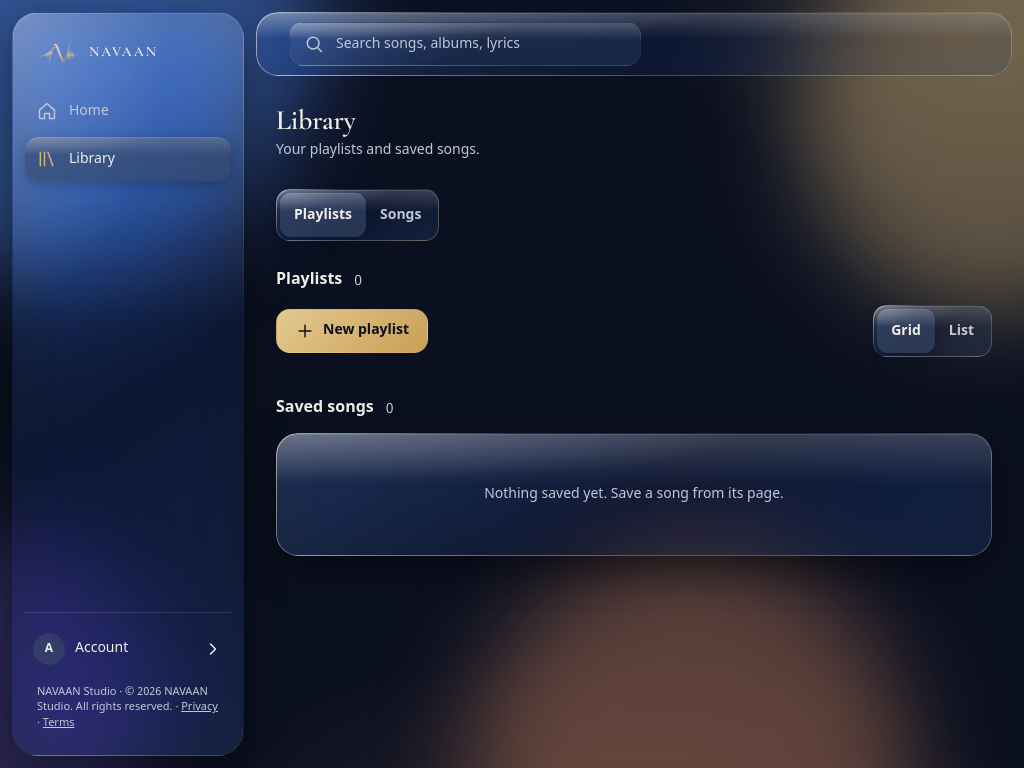
Test case: Library filters › shows the answer for the latest choice even when an earlier one answers later
The image size is (1024, 768).
Click the tab "Songs" at (401, 215), box [366,193,435,237]
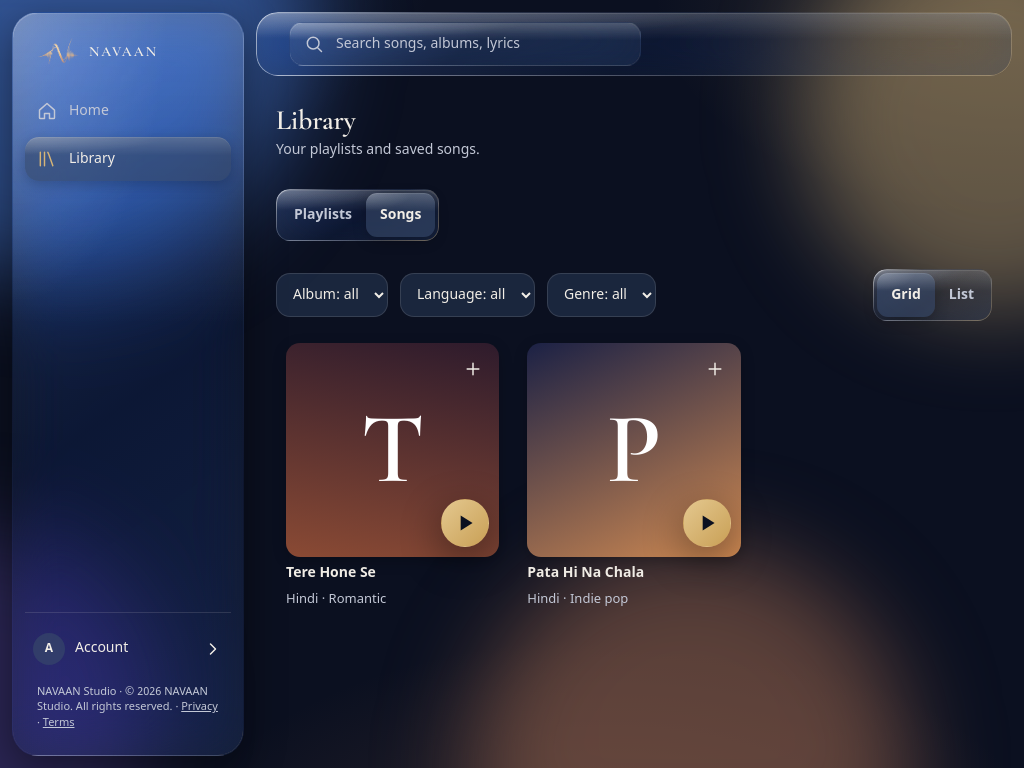
Expected: the link "T Tere Hone Se Hindi · Romantic" is shown, [276,333,509,619]
Select "Hindi" in the 2nd dropdown named "Language" at (468, 295), box [400,273,535,317]
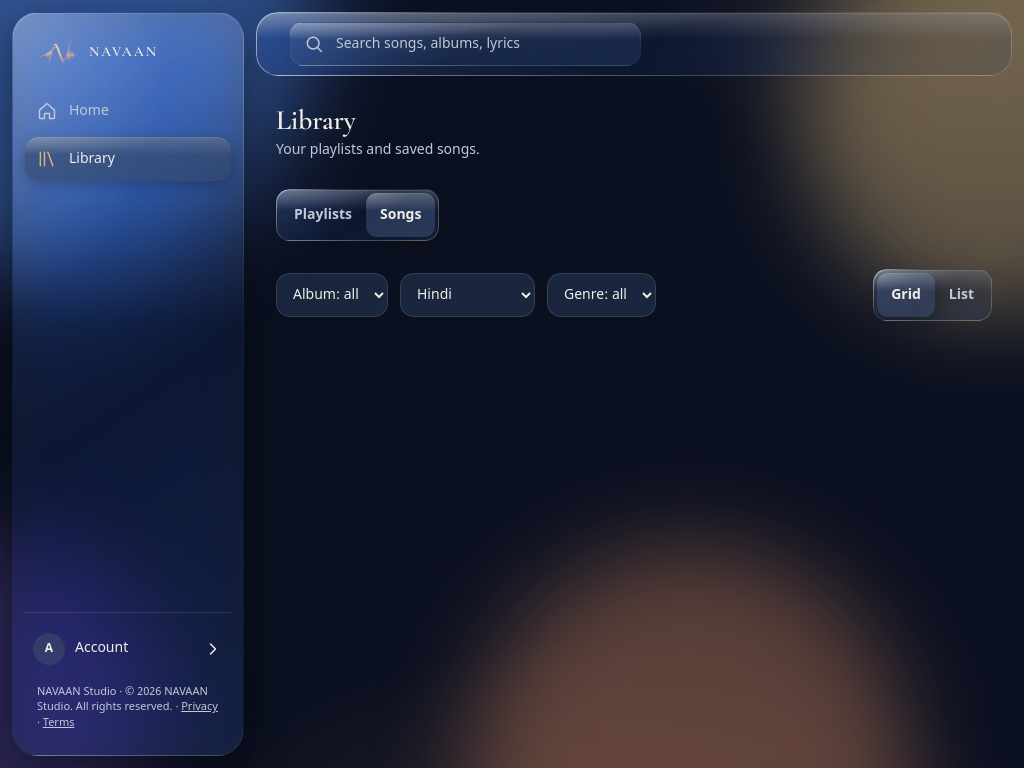
Select "Indie pop" in the 3rd dropdown named "Genre" at (602, 295), box [547,273,656,317]
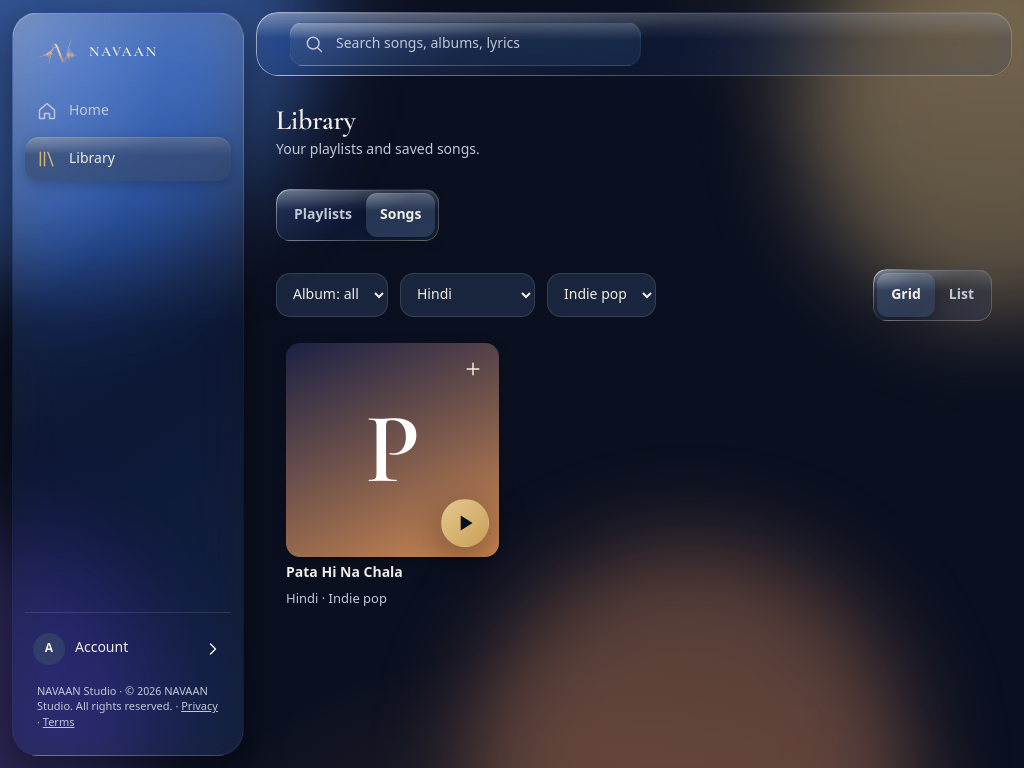
Expected: the link "Tere Hone Se" is not shown
Expected: the link "P Pata Hi Na Chala Hindi · Indie pop" is shown, [276,333,509,619]
